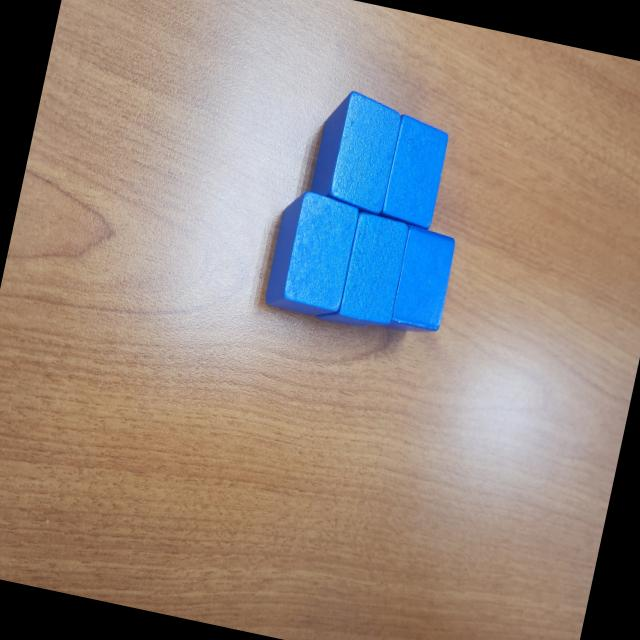blue: (262, 187, 364, 323), (307, 86, 408, 216), (314, 206, 412, 336), (374, 220, 459, 340), (378, 112, 452, 230)
